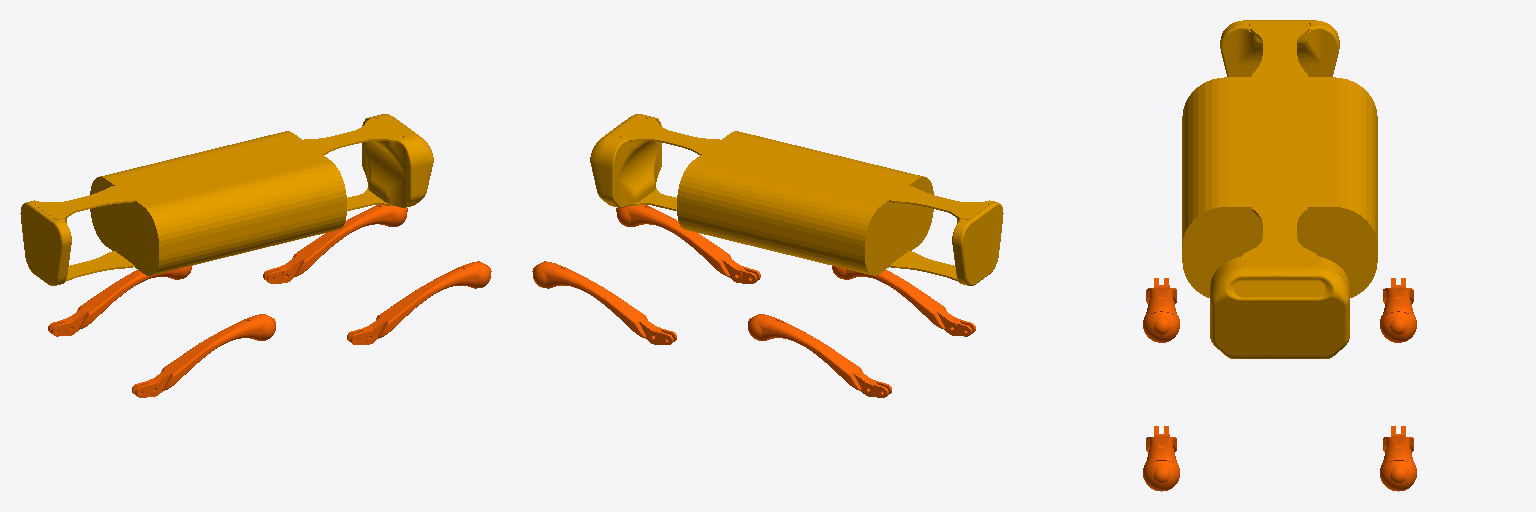
--- What the picture shows (computed from the rendered views, not written in the file) ---
The picture shows the robot from 3 angles, left to right: view 1: azimuth 30°, elevation 25°; view 2: azimuth 150°, elevation 25°; view 3: azimuth 270°, elevation 25°; orthographic projection.
Robot: robot — 18 links, 17 joints (12 revolute, 5 fixed); root link base; default pose: all joints at 0 but 4 set to mid-range because 0 is outside their limits (LF_KFE = -1.85, LH_KFE = -1.85, RF_KFE = -1.85, RH_KFE = -1.85).
Links seen in each view (by area): view 1: base, RF_calf, RH_calf, LF_calf, LH_calf; view 2: base, LF_calf, LH_calf, RF_calf, RH_calf; view 3: base, RH_calf, RF_calf, LF_calf, LH_calf.
Boxes of the visible links, x1,y1,x2,y2 form: base: [20, 114, 433, 285]; RF_calf: [347, 261, 490, 344]; RH_calf: [132, 314, 275, 397]; LF_calf: [263, 205, 406, 283]; LH_calf: [48, 266, 191, 336]; base: [590, 114, 1003, 285]; LF_calf: [533, 261, 676, 344]; LH_calf: [748, 314, 891, 397]; RF_calf: [617, 205, 760, 283]; RH_calf: [832, 266, 975, 336]; base: [1182, 20, 1377, 358]; RH_calf: [1143, 278, 1179, 342]; RF_calf: [1143, 426, 1179, 491]; LF_calf: [1380, 426, 1416, 491]; LH_calf: [1380, 278, 1416, 342].
Bounding box of the posed robot: 0.7136 × 0.2935 × 0.281 m (x, y, z).
5 mesh visuals loaded from 5 distinct referenced files (2 Collada DAE); not drawn: 8 (reference not matched to a file when rendering).

The robot description file, URDF, robot "robot":
<?xml version="1.0" ?>
<!-- =================================================================================== -->
<!-- |    This document was autogenerated by xacro from robot.xacro                    | -->
<!-- |    EDITING THIS FILE BY HAND IS NOT RECOMMENDED                                 | -->
<!-- =================================================================================== -->
<robot name="robot">
  <material name="black">
    <color rgba="0.0 0.0 0.0 1.0"/>
  </material>
  <material name="blue">
    <color rgba="0.0 0.0 0.8 1.0"/>
  </material>
  <material name="green">
    <color rgba="0.0 0.8 0.0 1.0"/>
  </material>
  <material name="grey">
    <color rgba="0.2 0.2 0.2 1.0"/>
  </material>
  <material name="silver">
    <color rgba="0.9137254901960784 0.9137254901960784 0.8470588235294118 1.0"/>
  </material>
  <material name="orange">
    <color rgba="1.0 0.4235294117647059 0.0392156862745098 1.0"/>
  </material>
  <material name="brown">
    <color rgba="0.8705882352941177 0.8117647058823529 0.7647058823529411 1.0"/>
  </material>
  <material name="red">
    <color rgba="0.8 0.0 0.0 1.0"/>
  </material>
  <material name="white">
    <color rgba="1.0 1.0 1.0 1.0"/>
  </material>
  <!-- ros_control plugin -->
  <gazebo>
    <plugin filename="liblegged_hw_sim.so" name="gazebo_ros_control">
      <robotNamespace>/</robotNamespace>
      <robotParam>legged_robot_description</robotParam>
      <robotSimType>legged_gazebo/LeggedHWSim</robotSimType>
    </plugin>
  </gazebo>
  <gazebo>
    <plugin filename="libgazebo_ros_p3d.so" name="p3d_base_controller">
      <alwaysOn>true</alwaysOn>
      <updateRate>1000.0</updateRate>
      <bodyName>base</bodyName>
      <topicName>ground_truth/state</topicName>
      <gaussianNoise>0</gaussianNoise>
      <frameName>world</frameName>
      <xyzOffsets>0 0 0</xyzOffsets>
      <rpyOffsets>0 0 0</rpyOffsets>
    </plugin>
  </gazebo>
  <link name="base">
    <visual>
      <origin rpy="0 0 0" xyz="0 0 0"/>
      <geometry>
        <mesh filename="package://galileo_go1_description/meshes/go1/trunk.dae" scale="1 1 1"/>
      </geometry>
    </visual>
    <collision>
      <origin rpy="0 0 0" xyz="0 0 0"/>
      <geometry>
        <box size="0.3762 0.0935 0.114"/>
      </geometry>
    </collision>
    <inertial>
      <origin rpy="0 0 0" xyz="0.0223 0.002 -0.0005"/>
      <mass value="5.204"/>
      <inertia ixx="0.0168128557" ixy="-0.0002296769" ixz="-0.0002945293" iyy="0.063009565" iyz="-4.18731e-05" izz="0.0716547275"/>
    </inertial>
  </link>
  <!-- Imu is fixed to the base link -->
  <joint name="unitree_imu_joint" type="fixed">
    <origin rpy="0. 0. 0." xyz="0. 0. 0."/>
    <parent link="base"/>
    <child link="unitree_imu"/>
  </joint>
  <!-- Imu link -->
  <link name="unitree_imu">
    <inertial>
      <mass value="0.01"/>
      <origin rpy="0 0 0" xyz="0 0 0"/>
      <inertia ixx="0.000001" ixy="0" ixz="0" iyy="0.000001" iyz="0" izz="0.000001"/>
    </inertial>
    <visual>
      <origin rpy="0 0 0" xyz="0 0 0"/>
      <geometry>
        <box size="0.015 0.015 0.004"/>
      </geometry>
    </visual>
    <material name="orange">
      <color rgba="255 108 10 255"/>
    </material>
  </link>
  <gazebo reference="unitree_imu">
    <material>Gazebo/Orange</material>
  </gazebo>
  <gazebo reference="unitree_imu_joint">
    <disableFixedJointLumping>true</disableFixedJointLumping>
  </gazebo>
  <joint name="LF_HAA" type="revolute">
    <origin rpy="0 0 0" xyz="0.1881 0.04675 0"/>
    <parent link="base"/>
    <child link="LF_hip"/>
    <axis xyz="1 0 0"/>
    <dynamics damping="0.01" friction="0.2"/>
    <limit effort="23.7" lower="-0.863" upper="0.863" velocity="30.1"/>
  </joint>
  <link name="LF_hip">
    <visual>
      <origin rpy="0 0 0" xyz="0 0 0"/>
      <geometry>
        <mesh filename="package://galileo_go1_description/meshes/go1/hip.dae" scale="1 1 1"/>
      </geometry>
      <material name="orange"/>
    </visual>
    <collision>
      <origin rpy="1.5707963267948966 0 0" xyz="0 0 0"/>
      <geometry>
        <cylinder length="0.04" radius="0.046"/>
      </geometry>
    </collision>
    <inertial>
      <origin rpy="0 0 0" xyz="-0.005657 -0.008752 -0.000102"/>
      <mass value="0.591"/>
      <inertia ixx="0.000334008405" ixy="-1.0826066e-05" ixz="1.290732e-06" iyy="0.000619101213" iyz="1.643194e-06" izz="0.00040057614"/>
    </inertial>
  </link>
  <joint name="LF_HFE" type="revolute">
    <origin rpy="0 0 0" xyz="0 0.08 0"/>
    <parent link="LF_hip"/>
    <child link="LF_thigh"/>
    <axis xyz="0 1 0"/>
    <dynamics damping="0.01" friction="0.2"/>
    <limit effort="23.7" lower="-0.686" upper="4.501" velocity="30.1"/>
  </joint>
  <link name="LF_thigh">
    <visual>
      <origin rpy="0 0 0" xyz="0 0 0"/>
      <geometry>
        <mesh filename="package://galileo_go1_description/meshes/go1/thigh.dae" scale="1 1 1"/>
      </geometry>
      <material name="orange"/>
    </visual>
    <collision>
      <origin rpy="0 1.6707963267948966 0" xyz="-0.015 0 -0.1065"/>
      <geometry>
        <box size="0.213 0.0245 0.034"/>
      </geometry>
    </collision>
    <collision>
      <origin rpy="1.5707963267948966 0 0" xyz="0 -0.008 0"/>
      <geometry>
        <cylinder length="0.032" radius="0.041"/>
      </geometry>
    </collision>
    <inertial>
      <origin rpy="0 0 0" xyz="-0.003342 -0.018054 -0.033451"/>
      <mass value="0.92"/>
      <inertia ixx="0.004431760472" ixy="5.7496807e-05" ixz="-0.000218457134" iyy="0.004485671726" iyz="0.000572001265" izz="0.000740309489"/>
    </inertial>
  </link>
  <joint name="LF_KFE" type="revolute">
    <origin rpy="0 0 0" xyz="0 0 -0.213"/>
    <parent link="LF_thigh"/>
    <child link="LF_calf"/>
    <axis xyz="0 1 0"/>
    <dynamics damping="0.01" friction="0.2"/>
    <limit effort="35.55" lower="-2.818" upper="-0.888" velocity="20.06"/>
  </joint>
  <link name="LF_calf">
    <visual>
      <origin rpy="0 0 0" xyz="0 0 0"/>
      <geometry>
        <mesh filename="package://galileo_go1_description/meshes/go1/calf.dae" scale="1 1 1"/>
      </geometry>
      <material name="orange"/>
    </visual>
    <collision>
      <origin rpy="0 1.5707963267948966 0" xyz="0.0 0 -0.1065"/>
      <geometry>
        <box size="0.213 0.016 0.016"/>
      </geometry>
    </collision>
    <inertial>
      <origin rpy="0 0 0" xyz="0.006197 0.001408 -0.116695"/>
      <mass value="0.135862"/>
      <inertia ixx="0.001088793059" ixy="-2.55679e-07" ixz="7.117814e-06" iyy="0.001100428748" iyz="2.077264e-06" izz="2.4787446e-05"/>
    </inertial>
  </link>
  <joint dont_collapse="true" name="LF_foot_fixed" type="fixed">
    <origin rpy="0 0 0" xyz="0 0 -0.213"/>
    <parent link="LF_calf"/>
    <child link="LF_FOOT"/>
  </joint>
  <link name="LF_FOOT">
    <visual>
      <origin rpy="0 0 0" xyz="0 0 0"/>
      <geometry>
        <sphere radius="0.01"/>
      </geometry>
      <material name="orange"/>
    </visual>
    <collision>
      <origin rpy="0 0 0" xyz="0 0 0"/>
      <geometry>
        <sphere radius="0.02"/>
      </geometry>
    </collision>
    <inertial>
      <mass value="0.06"/>
      <inertia ixx="9.600000000000001e-06" ixy="0.0" ixz="0.0" iyy="9.600000000000001e-06" iyz="0.0" izz="9.600000000000001e-06"/>
    </inertial>
  </link>
  <gazebo reference="LF_foot_fixed">
    <disableFixedJointLumping>true</disableFixedJointLumping>
  </gazebo>
  <gazebo reference="LF_hip">
    <mu1>0.2</mu1>
    <mu2>0.2</mu2>
    <material>Gazebo/DarkGrey</material>
  </gazebo>
  <gazebo reference="LF_thigh">
    <mu1>0.2</mu1>
    <mu2>0.2</mu2>
    <self_collide>0</self_collide>
    <material>Gazebo/DarkGrey</material>
    <kp value="1000000.0"/>
    <kd value="100.0"/>
  </gazebo>
  <gazebo reference="LF_calf">
    <mu1>0.6</mu1>
    <mu2>0.6</mu2>
    <self_collide>1</self_collide>
  </gazebo>
  <gazebo reference="LF_FOOT">
    <mu1>0.6</mu1>
    <mu2>0.6</mu2>
    <self_collide>1</self_collide>
    <material>Gazebo/DarkGrey</material>
    <kp value="1000000.0"/>
    <kd value="100.0"/>
  </gazebo>
  <transmission name="LF_HAA_tran">
    <type>transmission_interface/SimpleTransmission</type>
    <joint name="LF_HAA">
      <hardwareInterface>hardware_interface/EffortJointInterface</hardwareInterface>
    </joint>
    <actuator name="LF_HAA_motor">
      <hardwareInterface>hardware_interface/EffortJointInterface</hardwareInterface>
      <mechanicalReduction>1</mechanicalReduction>
    </actuator>
  </transmission>
  <transmission name="LF_HFE_tran">
    <type>transmission_interface/SimpleTransmission</type>
    <joint name="LF_HFE">
      <hardwareInterface>hardware_interface/EffortJointInterface</hardwareInterface>
    </joint>
    <actuator name="LF_HFE_motor">
      <hardwareInterface>hardware_interface/EffortJointInterface</hardwareInterface>
      <mechanicalReduction>1</mechanicalReduction>
    </actuator>
  </transmission>
  <transmission name="LF_KFE_tran">
    <type>transmission_interface/SimpleTransmission</type>
    <joint name="LF_KFE">
      <hardwareInterface>hardware_interface/EffortJointInterface</hardwareInterface>
    </joint>
    <actuator name="LF_KFE_motor">
      <hardwareInterface>hardware_interface/EffortJointInterface</hardwareInterface>
      <mechanicalReduction>1</mechanicalReduction>
    </actuator>
  </transmission>
  <joint name="LH_HAA" type="revolute">
    <origin rpy="0 0 0" xyz="-0.1881 0.04675 0"/>
    <parent link="base"/>
    <child link="LH_hip"/>
    <axis xyz="1 0 0"/>
    <dynamics damping="0.01" friction="0.2"/>
    <limit effort="23.7" lower="-0.863" upper="0.863" velocity="30.1"/>
  </joint>
  <link name="LH_hip">
    <visual>
      <origin rpy="0 3.141592653589793 0" xyz="0 0 0"/>
      <geometry>
        <mesh filename="package://galileo_go1_description/meshes/go1/hip.dae" scale="1 1 1"/>
      </geometry>
      <material name="orange"/>
    </visual>
    <collision>
      <origin rpy="1.5707963267948966 0 0" xyz="0 0 0"/>
      <geometry>
        <cylinder length="0.04" radius="0.046"/>
      </geometry>
    </collision>
    <inertial>
      <origin rpy="0 0 0" xyz="0.005657 -0.008752 -0.000102"/>
      <mass value="0.591"/>
      <inertia ixx="0.000334008405" ixy="1.0826066e-05" ixz="-1.290732e-06" iyy="0.000619101213" iyz="1.643194e-06" izz="0.00040057614"/>
    </inertial>
  </link>
  <joint name="LH_HFE" type="revolute">
    <origin rpy="0 0 0" xyz="0 0.08 0"/>
    <parent link="LH_hip"/>
    <child link="LH_thigh"/>
    <axis xyz="0 1 0"/>
    <dynamics damping="0.01" friction="0.2"/>
    <limit effort="23.7" lower="-0.686" upper="4.501" velocity="30.1"/>
  </joint>
  <link name="LH_thigh">
    <visual>
      <origin rpy="0 0 0" xyz="0 0 0"/>
      <geometry>
        <mesh filename="package://galileo_go1_description/meshes/go1/thigh.dae" scale="1 1 1"/>
      </geometry>
      <material name="orange"/>
    </visual>
    <collision>
      <origin rpy="0 1.6707963267948966 0" xyz="-0.015 0 -0.1065"/>
      <geometry>
        <box size="0.213 0.0245 0.034"/>
      </geometry>
    </collision>
    <collision>
      <origin rpy="1.5707963267948966 0 0" xyz="0 -0.008 0"/>
      <geometry>
        <cylinder length="0.032" radius="0.041"/>
      </geometry>
    </collision>
    <inertial>
      <origin rpy="0 0 0" xyz="-0.003342 -0.018054 -0.033451"/>
      <mass value="0.92"/>
      <inertia ixx="0.004431760472" ixy="5.7496807e-05" ixz="-0.000218457134" iyy="0.004485671726" iyz="0.000572001265" izz="0.000740309489"/>
    </inertial>
  </link>
  <joint name="LH_KFE" type="revolute">
    <origin rpy="0 0 0" xyz="0 0 -0.213"/>
    <parent link="LH_thigh"/>
    <child link="LH_calf"/>
    <axis xyz="0 1 0"/>
    <dynamics damping="0.01" friction="0.2"/>
    <limit effort="35.55" lower="-2.818" upper="-0.888" velocity="20.06"/>
  </joint>
  <link name="LH_calf">
    <visual>
      <origin rpy="0 0 0" xyz="0 0 0"/>
      <geometry>
        <mesh filename="package://galileo_go1_description/meshes/go1/calf.dae" scale="1 1 1"/>
      </geometry>
      <material name="orange"/>
    </visual>
    <collision>
      <origin rpy="0 1.5707963267948966 0" xyz="0.0 0 -0.1065"/>
      <geometry>
        <box size="0.213 0.016 0.016"/>
      </geometry>
    </collision>
    <inertial>
      <origin rpy="0 0 0" xyz="0.006197 0.001408 -0.116695"/>
      <mass value="0.135862"/>
      <inertia ixx="0.001088793059" ixy="-2.55679e-07" ixz="7.117814e-06" iyy="0.001100428748" iyz="2.077264e-06" izz="2.4787446e-05"/>
    </inertial>
  </link>
  <joint dont_collapse="true" name="LH_foot_fixed" type="fixed">
    <origin rpy="0 0 0" xyz="0 0 -0.213"/>
    <parent link="LH_calf"/>
    <child link="LH_FOOT"/>
  </joint>
  <link name="LH_FOOT">
    <visual>
      <origin rpy="0 0 0" xyz="0 0 0"/>
      <geometry>
        <sphere radius="0.01"/>
      </geometry>
      <material name="orange"/>
    </visual>
    <collision>
      <origin rpy="0 0 0" xyz="0 0 0"/>
      <geometry>
        <sphere radius="0.02"/>
      </geometry>
    </collision>
    <inertial>
      <mass value="0.06"/>
      <inertia ixx="9.600000000000001e-06" ixy="0.0" ixz="0.0" iyy="9.600000000000001e-06" iyz="0.0" izz="9.600000000000001e-06"/>
    </inertial>
  </link>
  <gazebo reference="LH_foot_fixed">
    <disableFixedJointLumping>true</disableFixedJointLumping>
  </gazebo>
  <gazebo reference="LH_hip">
    <mu1>0.2</mu1>
    <mu2>0.2</mu2>
    <material>Gazebo/DarkGrey</material>
  </gazebo>
  <gazebo reference="LH_thigh">
    <mu1>0.2</mu1>
    <mu2>0.2</mu2>
    <self_collide>0</self_collide>
    <material>Gazebo/DarkGrey</material>
    <kp value="1000000.0"/>
    <kd value="100.0"/>
  </gazebo>
  <gazebo reference="LH_calf">
    <mu1>0.6</mu1>
    <mu2>0.6</mu2>
    <self_collide>1</self_collide>
  </gazebo>
  <gazebo reference="LH_FOOT">
    <mu1>0.6</mu1>
    <mu2>0.6</mu2>
    <self_collide>1</self_collide>
    <material>Gazebo/DarkGrey</material>
    <kp value="1000000.0"/>
    <kd value="100.0"/>
  </gazebo>
  <transmission name="LH_HAA_tran">
    <type>transmission_interface/SimpleTransmission</type>
    <joint name="LH_HAA">
      <hardwareInterface>hardware_interface/EffortJointInterface</hardwareInterface>
    </joint>
    <actuator name="LH_HAA_motor">
      <hardwareInterface>hardware_interface/EffortJointInterface</hardwareInterface>
      <mechanicalReduction>1</mechanicalReduction>
    </actuator>
  </transmission>
  <transmission name="LH_HFE_tran">
    <type>transmission_interface/SimpleTransmission</type>
    <joint name="LH_HFE">
      <hardwareInterface>hardware_interface/EffortJointInterface</hardwareInterface>
    </joint>
    <actuator name="LH_HFE_motor">
      <hardwareInterface>hardware_interface/EffortJointInterface</hardwareInterface>
      <mechanicalReduction>1</mechanicalReduction>
    </actuator>
  </transmission>
  <transmission name="LH_KFE_tran">
    <type>transmission_interface/SimpleTransmission</type>
    <joint name="LH_KFE">
      <hardwareInterface>hardware_interface/EffortJointInterface</hardwareInterface>
    </joint>
    <actuator name="LH_KFE_motor">
      <hardwareInterface>hardware_interface/EffortJointInterface</hardwareInterface>
      <mechanicalReduction>1</mechanicalReduction>
    </actuator>
  </transmission>
  <joint name="RF_HAA" type="revolute">
    <origin rpy="0 0 0" xyz="0.1881 -0.04675 0"/>
    <parent link="base"/>
    <child link="RF_hip"/>
    <axis xyz="1 0 0"/>
    <dynamics damping="0.01" friction="0.2"/>
    <limit effort="23.7" lower="-0.863" upper="0.863" velocity="30.1"/>
  </joint>
  <link name="RF_hip">
    <visual>
      <origin rpy="3.141592653589793 0 0" xyz="0 0 0"/>
      <geometry>
        <mesh filename="package://galileo_go1_description/meshes/go1/hip.dae" scale="1 1 1"/>
      </geometry>
      <material name="orange"/>
    </visual>
    <collision>
      <origin rpy="1.5707963267948966 0 0" xyz="0 0 0"/>
      <geometry>
        <cylinder length="0.04" radius="0.046"/>
      </geometry>
    </collision>
    <inertial>
      <origin rpy="0 0 0" xyz="-0.005657 0.008752 -0.000102"/>
      <mass value="0.591"/>
      <inertia ixx="0.000334008405" ixy="1.0826066e-05" ixz="1.290732e-06" iyy="0.000619101213" iyz="-1.643194e-06" izz="0.00040057614"/>
    </inertial>
  </link>
  <joint name="RF_HFE" type="revolute">
    <origin rpy="0 0 0" xyz="0 -0.08 0"/>
    <parent link="RF_hip"/>
    <child link="RF_thigh"/>
    <axis xyz="0 1 0"/>
    <dynamics damping="0.01" friction="0.2"/>
    <limit effort="23.7" lower="-0.686" upper="4.501" velocity="30.1"/>
  </joint>
  <link name="RF_thigh">
    <visual>
      <origin rpy="0 0 0" xyz="0 0 0"/>
      <geometry>
        <mesh filename="package://galileo_go1_description/meshes/go1/thigh_mirror.dae" scale="1 1 1"/>
      </geometry>
      <material name="orange"/>
    </visual>
    <collision>
      <origin rpy="0 1.6707963267948966 0" xyz="-0.015 0 -0.1065"/>
      <geometry>
        <box size="0.213 0.0245 0.034"/>
      </geometry>
    </collision>
    <collision>
      <origin rpy="1.5707963267948966 0 0" xyz="0 0.008 0"/>
      <geometry>
        <cylinder length="0.032" radius="0.041"/>
      </geometry>
    </collision>
    <inertial>
      <origin rpy="0 0 0" xyz="-0.003342 0.018054 -0.033451"/>
      <mass value="0.92"/>
      <inertia ixx="0.004431760472" ixy="-5.7496807e-05" ixz="-0.000218457134" iyy="0.004485671726" iyz="-0.000572001265" izz="0.000740309489"/>
    </inertial>
  </link>
  <joint name="RF_KFE" type="revolute">
    <origin rpy="0 0 0" xyz="0 0 -0.213"/>
    <parent link="RF_thigh"/>
    <child link="RF_calf"/>
    <axis xyz="0 1 0"/>
    <dynamics damping="0.01" friction="0.2"/>
    <limit effort="35.55" lower="-2.818" upper="-0.888" velocity="20.06"/>
  </joint>
  <link name="RF_calf">
    <visual>
      <origin rpy="0 0 0" xyz="0 0 0"/>
      <geometry>
        <mesh filename="package://galileo_go1_description/meshes/go1/calf.dae" scale="1 1 1"/>
      </geometry>
      <material name="orange"/>
    </visual>
    <collision>
      <origin rpy="0 1.5707963267948966 0" xyz="0.0 0 -0.1065"/>
      <geometry>
        <box size="0.213 0.016 0.016"/>
      </geometry>
    </collision>
    <inertial>
      <origin rpy="0 0 0" xyz="0.006197 0.001408 -0.116695"/>
      <mass value="0.135862"/>
      <inertia ixx="0.001088793059" ixy="-2.55679e-07" ixz="7.117814e-06" iyy="0.001100428748" iyz="2.077264e-06" izz="2.4787446e-05"/>
    </inertial>
  </link>
  <joint dont_collapse="true" name="RF_foot_fixed" type="fixed">
    <origin rpy="0 0 0" xyz="0 0 -0.213"/>
    <parent link="RF_calf"/>
    <child link="RF_FOOT"/>
  </joint>
  <link name="RF_FOOT">
    <visual>
      <origin rpy="0 0 0" xyz="0 0 0"/>
      <geometry>
        <sphere radius="0.01"/>
      </geometry>
      <material name="orange"/>
    </visual>
    <collision>
      <origin rpy="0 0 0" xyz="0 0 0"/>
      <geometry>
        <sphere radius="0.02"/>
      </geometry>
    </collision>
    <inertial>
      <mass value="0.06"/>
      <inertia ixx="9.600000000000001e-06" ixy="0.0" ixz="0.0" iyy="9.600000000000001e-06" iyz="0.0" izz="9.600000000000001e-06"/>
    </inertial>
  </link>
  <gazebo reference="RF_foot_fixed">
    <disableFixedJointLumping>true</disableFixedJointLumping>
  </gazebo>
  <gazebo reference="RF_hip">
    <mu1>0.2</mu1>
    <mu2>0.2</mu2>
    <material>Gazebo/DarkGrey</material>
  </gazebo>
  <gazebo reference="RF_thigh">
    <mu1>0.2</mu1>
    <mu2>0.2</mu2>
    <self_collide>0</self_collide>
    <material>Gazebo/DarkGrey</material>
    <kp value="1000000.0"/>
    <kd value="100.0"/>
  </gazebo>
  <gazebo reference="RF_calf">
    <mu1>0.6</mu1>
    <mu2>0.6</mu2>
    <self_collide>1</self_collide>
  </gazebo>
  <gazebo reference="RF_FOOT">
    <mu1>0.6</mu1>
    <mu2>0.6</mu2>
    <self_collide>1</self_collide>
    <material>Gazebo/DarkGrey</material>
    <kp value="1000000.0"/>
    <kd value="100.0"/>
  </gazebo>
  <transmission name="RF_HAA_tran">
    <type>transmission_interface/SimpleTransmission</type>
    <joint name="RF_HAA">
      <hardwareInterface>hardware_interface/EffortJointInterface</hardwareInterface>
    </joint>
    <actuator name="RF_HAA_motor">
      <hardwareInterface>hardware_interface/EffortJointInterface</hardwareInterface>
      <mechanicalReduction>1</mechanicalReduction>
    </actuator>
  </transmission>
  <transmission name="RF_HFE_tran">
    <type>transmission_interface/SimpleTransmission</type>
    <joint name="RF_HFE">
      <hardwareInterface>hardware_interface/EffortJointInterface</hardwareInterface>
    </joint>
    <actuator name="RF_HFE_motor">
      <hardwareInterface>hardware_interface/EffortJointInterface</hardwareInterface>
      <mechanicalReduction>1</mechanicalReduction>
    </actuator>
  </transmission>
  <transmission name="RF_KFE_tran">
    <type>transmission_interface/SimpleTransmission</type>
    <joint name="RF_KFE">
      <hardwareInterface>hardware_interface/EffortJointInterface</hardwareInterface>
    </joint>
    <actuator name="RF_KFE_motor">
      <hardwareInterface>hardware_interface/EffortJointInterface</hardwareInterface>
      <mechanicalReduction>1</mechanicalReduction>
    </actuator>
  </transmission>
  <joint name="RH_HAA" type="revolute">
    <origin rpy="0 0 0" xyz="-0.1881 -0.04675 0"/>
    <parent link="base"/>
    <child link="RH_hip"/>
    <axis xyz="1 0 0"/>
    <dynamics damping="0.01" friction="0.2"/>
    <limit effort="23.7" lower="-0.863" upper="0.863" velocity="30.1"/>
  </joint>
  <link name="RH_hip">
    <visual>
      <origin rpy="3.141592653589793 3.141592653589793 0" xyz="0 0 0"/>
      <geometry>
        <mesh filename="package://galileo_go1_description/meshes/go1/hip.dae" scale="1 1 1"/>
      </geometry>
      <material name="orange"/>
    </visual>
    <collision>
      <origin rpy="1.5707963267948966 0 0" xyz="0 0 0"/>
      <geometry>
        <cylinder length="0.04" radius="0.046"/>
      </geometry>
    </collision>
    <inertial>
      <origin rpy="0 0 0" xyz="0.005657 0.008752 -0.000102"/>
      <mass value="0.591"/>
      <inertia ixx="0.000334008405" ixy="-1.0826066e-05" ixz="-1.290732e-06" iyy="0.000619101213" iyz="-1.643194e-06" izz="0.00040057614"/>
    </inertial>
  </link>
  <joint name="RH_HFE" type="revolute">
    <origin rpy="0 0 0" xyz="0 -0.08 0"/>
    <parent link="RH_hip"/>
    <child link="RH_thigh"/>
    <axis xyz="0 1 0"/>
    <dynamics damping="0.01" friction="0.2"/>
    <limit effort="23.7" lower="-0.686" upper="4.501" velocity="30.1"/>
  </joint>
  <link name="RH_thigh">
    <visual>
      <origin rpy="0 0 0" xyz="0 0 0"/>
      <geometry>
        <mesh filename="package://galileo_go1_description/meshes/go1/thigh_mirror.dae" scale="1 1 1"/>
      </geometry>
      <material name="orange"/>
    </visual>
    <collision>
      <origin rpy="0 1.6707963267948966 0" xyz="-0.015 0 -0.1065"/>
      <geometry>
        <box size="0.213 0.0245 0.034"/>
      </geometry>
    </collision>
    <collision>
      <origin rpy="1.5707963267948966 0 0" xyz="0 0.008 0"/>
      <geometry>
        <cylinder length="0.032" radius="0.041"/>
      </geometry>
    </collision>
    <inertial>
      <origin rpy="0 0 0" xyz="-0.003342 0.018054 -0.033451"/>
      <mass value="0.92"/>
      <inertia ixx="0.004431760472" ixy="-5.7496807e-05" ixz="-0.000218457134" iyy="0.004485671726" iyz="-0.000572001265" izz="0.000740309489"/>
    </inertial>
  </link>
  <joint name="RH_KFE" type="revolute">
    <origin rpy="0 0 0" xyz="0 0 -0.213"/>
    <parent link="RH_thigh"/>
    <child link="RH_calf"/>
    <axis xyz="0 1 0"/>
    <dynamics damping="0.01" friction="0.2"/>
    <limit effort="35.55" lower="-2.818" upper="-0.888" velocity="20.06"/>
  </joint>
  <link name="RH_calf">
    <visual>
      <origin rpy="0 0 0" xyz="0 0 0"/>
      <geometry>
        <mesh filename="package://galileo_go1_description/meshes/go1/calf.dae" scale="1 1 1"/>
      </geometry>
      <material name="orange"/>
    </visual>
    <collision>
      <origin rpy="0 1.5707963267948966 0" xyz="0.0 0 -0.1065"/>
      <geometry>
        <box size="0.213 0.016 0.016"/>
      </geometry>
    </collision>
    <inertial>
      <origin rpy="0 0 0" xyz="0.006197 0.001408 -0.116695"/>
      <mass value="0.135862"/>
      <inertia ixx="0.001088793059" ixy="-2.55679e-07" ixz="7.117814e-06" iyy="0.001100428748" iyz="2.077264e-06" izz="2.4787446e-05"/>
    </inertial>
  </link>
  <joint dont_collapse="true" name="RH_foot_fixed" type="fixed">
    <origin rpy="0 0 0" xyz="0 0 -0.213"/>
    <parent link="RH_calf"/>
    <child link="RH_FOOT"/>
  </joint>
  <link name="RH_FOOT">
    <visual>
      <origin rpy="0 0 0" xyz="0 0 0"/>
      <geometry>
        <sphere radius="0.01"/>
      </geometry>
      <material name="orange"/>
    </visual>
    <collision>
      <origin rpy="0 0 0" xyz="0 0 0"/>
      <geometry>
        <sphere radius="0.02"/>
      </geometry>
    </collision>
    <inertial>
      <mass value="0.06"/>
      <inertia ixx="9.600000000000001e-06" ixy="0.0" ixz="0.0" iyy="9.600000000000001e-06" iyz="0.0" izz="9.600000000000001e-06"/>
    </inertial>
  </link>
  <gazebo reference="RH_foot_fixed">
    <disableFixedJointLumping>true</disableFixedJointLumping>
  </gazebo>
  <gazebo reference="RH_hip">
    <mu1>0.2</mu1>
    <mu2>0.2</mu2>
    <material>Gazebo/DarkGrey</material>
  </gazebo>
  <gazebo reference="RH_thigh">
    <mu1>0.2</mu1>
    <mu2>0.2</mu2>
    <self_collide>0</self_collide>
    <material>Gazebo/DarkGrey</material>
    <kp value="1000000.0"/>
    <kd value="100.0"/>
  </gazebo>
  <gazebo reference="RH_calf">
    <mu1>0.6</mu1>
    <mu2>0.6</mu2>
    <self_collide>1</self_collide>
  </gazebo>
  <gazebo reference="RH_FOOT">
    <mu1>0.6</mu1>
    <mu2>0.6</mu2>
    <self_collide>1</self_collide>
    <material>Gazebo/DarkGrey</material>
    <kp value="1000000.0"/>
    <kd value="100.0"/>
  </gazebo>
  <transmission name="RH_HAA_tran">
    <type>transmission_interface/SimpleTransmission</type>
    <joint name="RH_HAA">
      <hardwareInterface>hardware_interface/EffortJointInterface</hardwareInterface>
    </joint>
    <actuator name="RH_HAA_motor">
      <hardwareInterface>hardware_interface/EffortJointInterface</hardwareInterface>
      <mechanicalReduction>1</mechanicalReduction>
    </actuator>
  </transmission>
  <transmission name="RH_HFE_tran">
    <type>transmission_interface/SimpleTransmission</type>
    <joint name="RH_HFE">
      <hardwareInterface>hardware_interface/EffortJointInterface</hardwareInterface>
    </joint>
    <actuator name="RH_HFE_motor">
      <hardwareInterface>hardware_interface/EffortJointInterface</hardwareInterface>
      <mechanicalReduction>1</mechanicalReduction>
    </actuator>
  </transmission>
  <transmission name="RH_KFE_tran">
    <type>transmission_interface/SimpleTransmission</type>
    <joint name="RH_KFE">
      <hardwareInterface>hardware_interface/EffortJointInterface</hardwareInterface>
    </joint>
    <actuator name="RH_KFE_motor">
      <hardwareInterface>hardware_interface/EffortJointInterface</hardwareInterface>
      <mechanicalReduction>1</mechanicalReduction>
    </actuator>
  </transmission>
</robot>
